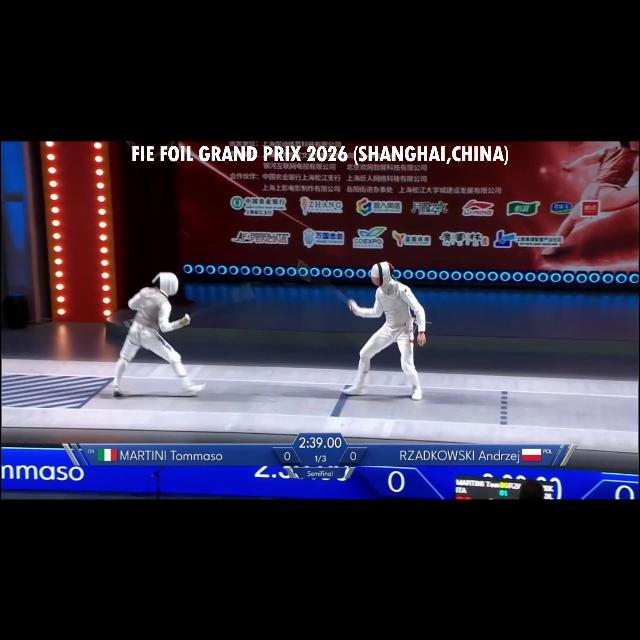blade: (292, 255, 360, 312), (180, 283, 260, 323)
